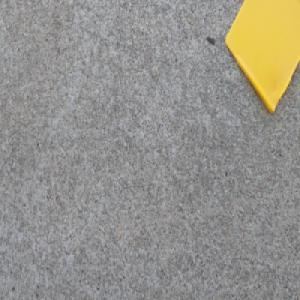PlasticPart: (223, 0, 300, 117)
